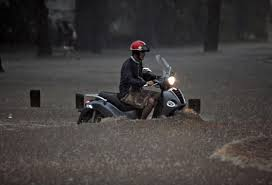motorcycle: (73, 38, 191, 127)
